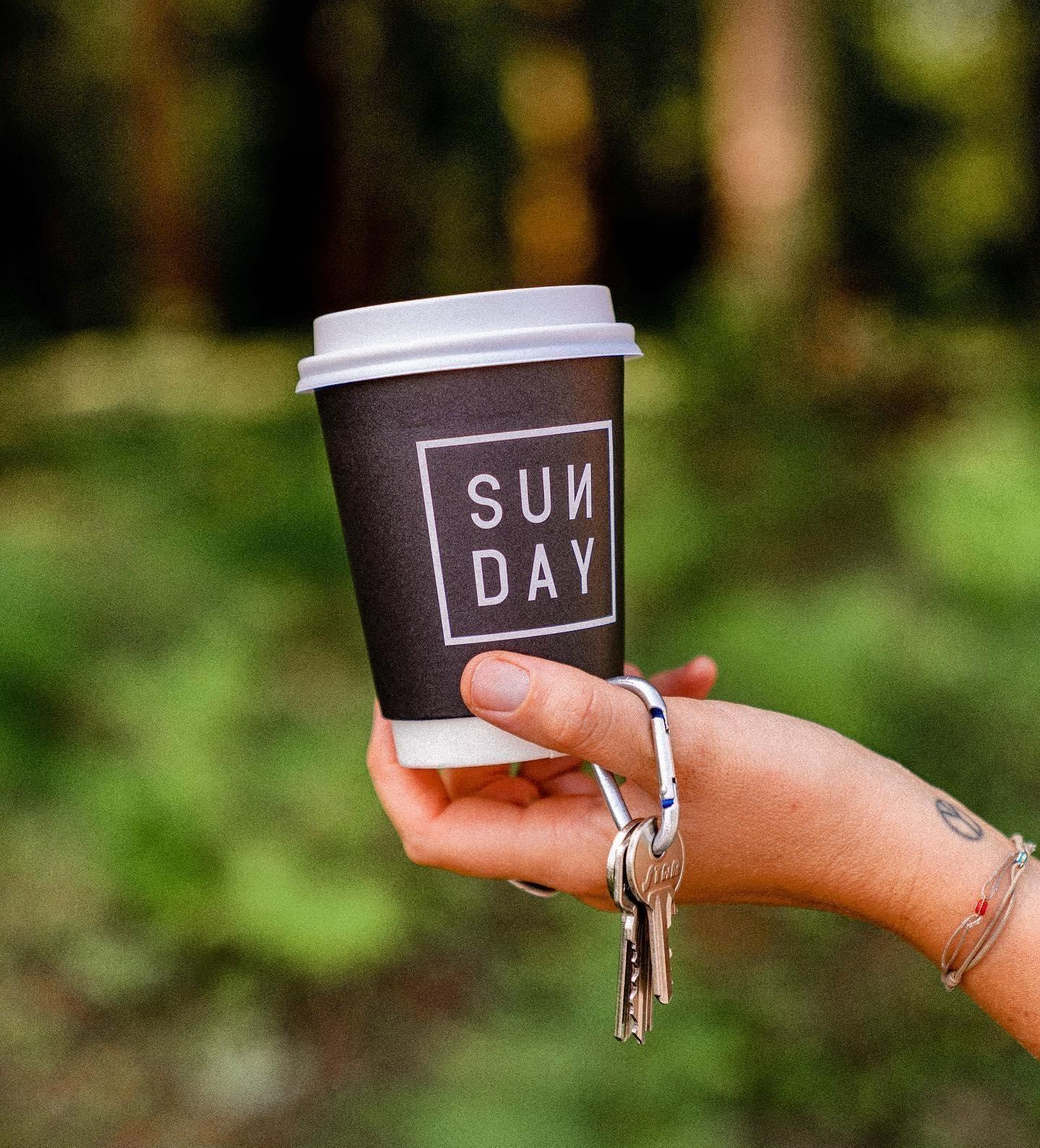cup-disposable: (305, 277, 629, 778)
